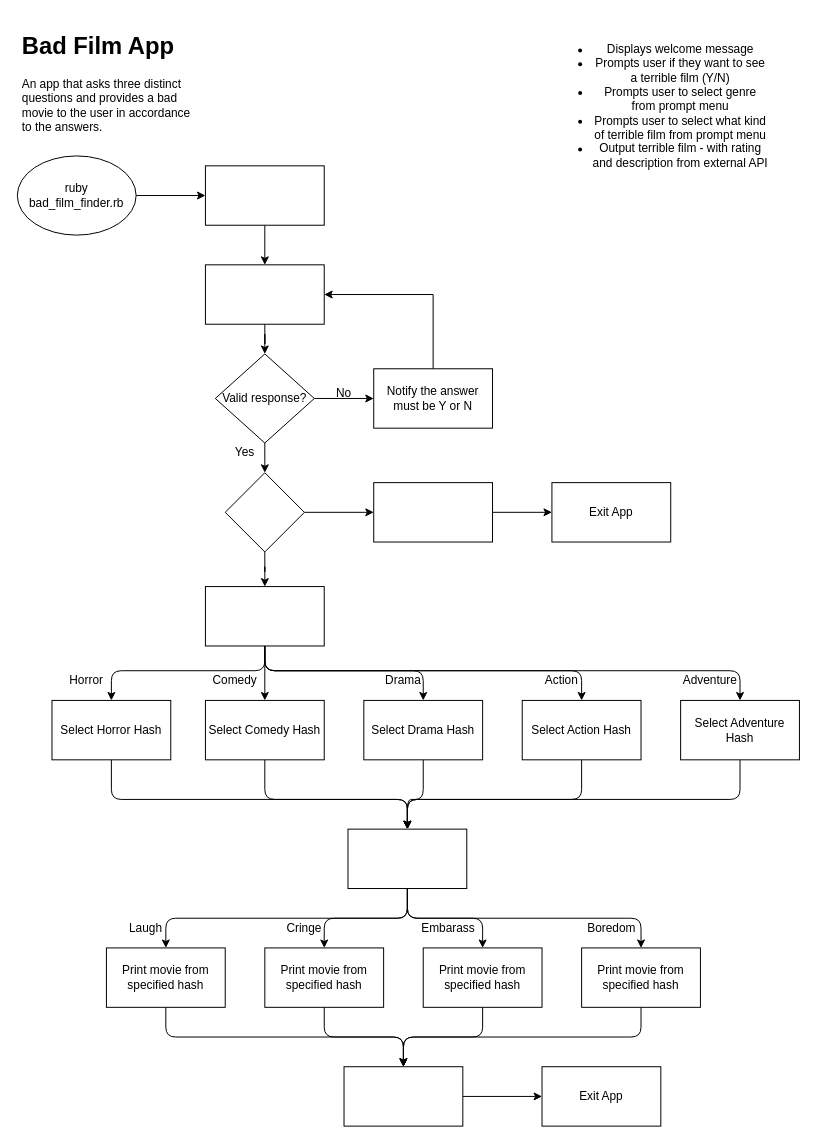
Some shapes in this 817 by 1143 pixel diagram are drawn without their labels. Here are the shapes that lost their labels. From the top down, the centre of each, then its label:
(x=264, y=195): Print Welcome
(x=264, y=294): Ask if user wants to find terrible film
(x=264, y=512): Yes or No?
(x=433, y=512): Print Apology
(x=264, y=616): Print genre selection menu
(x=407, y=858): Print Movie Type Menu
(x=403, y=1096): Print film name, rating, and description
